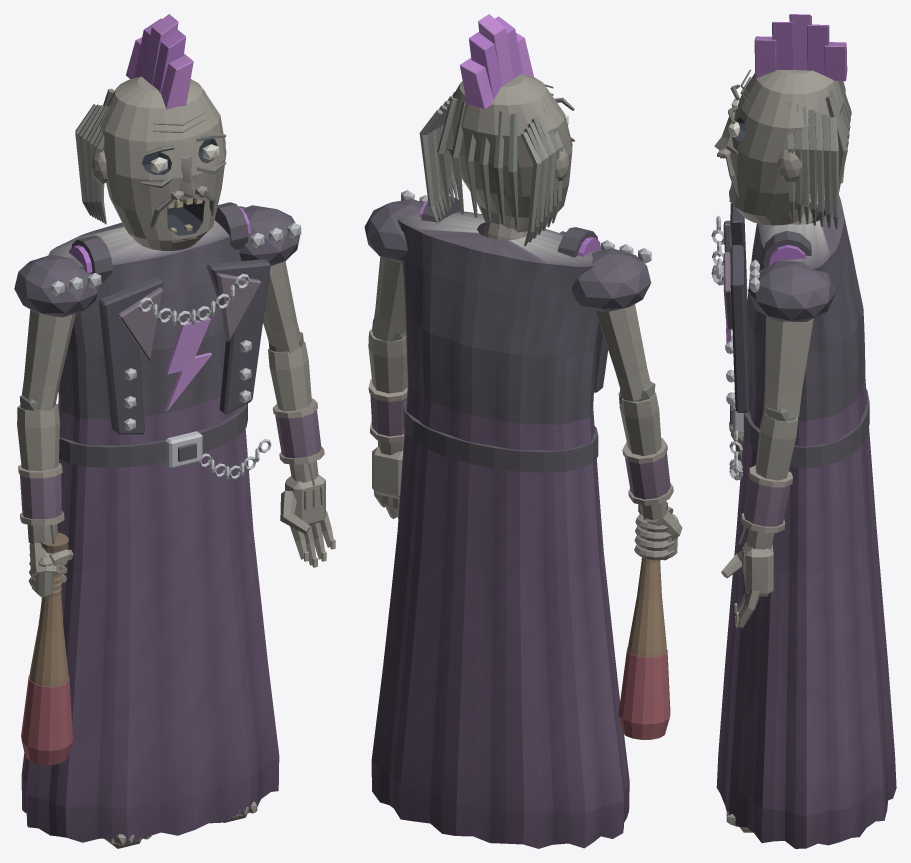
The model's file is GrannyPunk.glb.
The picture shows the model from 3 angles, left to right: view 1: azimuth 30°, elevation 25°; view 2: azimuth 150°, elevation 25°; view 3: azimuth 270°, elevation 25°; orthographic projection.
Parts seen in each view (by area): view 1: Body, Head, ArmR, ArmL; view 2: Body, Head, ArmR, ArmL; view 3: Body, Head, ArmL.
Part boxes in pixels (x1,y1,x2,y2): Body: [21, 202, 279, 843]; Head: [75, 14, 226, 250]; ArmR: [14, 254, 101, 765]; ArmL: [239, 205, 335, 567]; Body: [371, 196, 629, 848]; Head: [419, 14, 574, 246]; ArmR: [571, 240, 682, 739]; ArmL: [364, 190, 427, 518]; Body: [711, 183, 896, 848]; Head: [714, 14, 851, 229]; ArmL: [721, 259, 836, 627].
Size of the model in its own units: 2.62 by 6.55 by 1.38.
